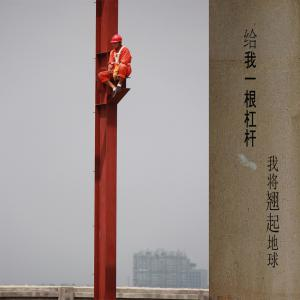red: (111, 36, 123, 51)
